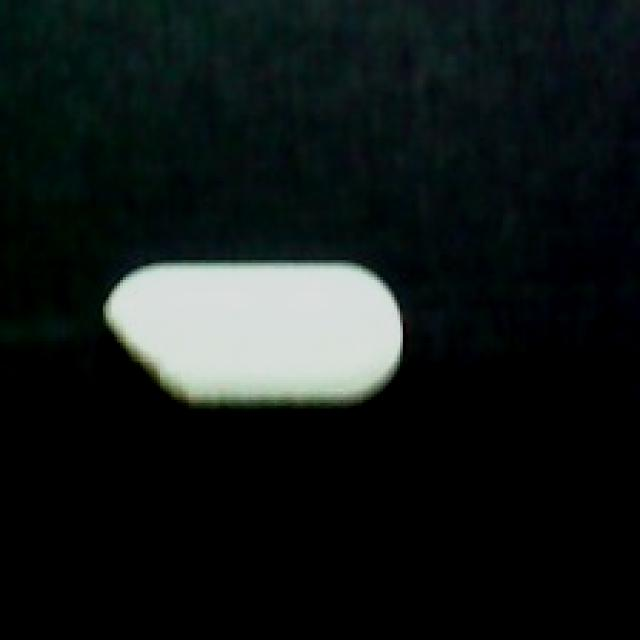defected: (100, 257, 406, 411)
